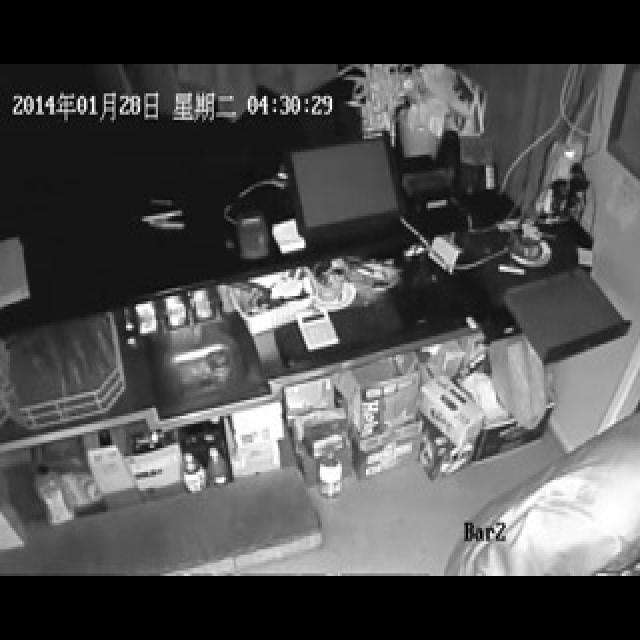thief: (510, 437, 640, 560)
